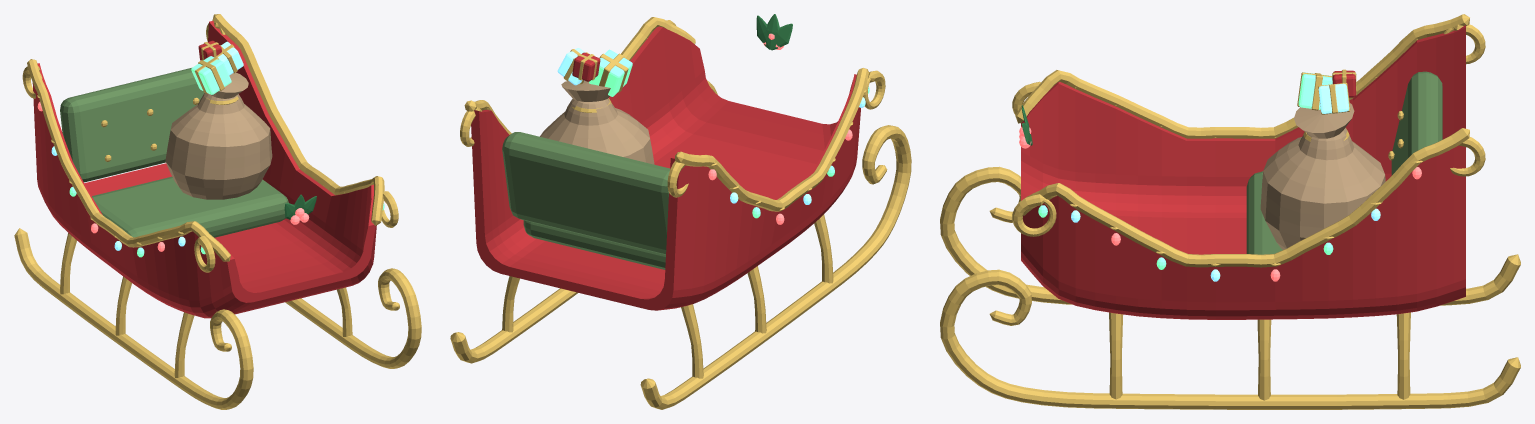
The model's file is Trineo.glb.
The picture shows the model from 3 angles, left to right: view 1: azimuth 30°, elevation 25°; view 2: azimuth 150°, elevation 25°; view 3: azimuth 270°, elevation 25°; orthographic projection. The views are drawn at different scales.
Visible parts, largest first — view 1: Trineo; view 2: Trineo; view 3: Trineo.
Boxes of the visible parts, <box> form: Trineo: <box>14,14,421,409</box>; Trineo: <box>450,14,911,409</box>; Trineo: <box>940,14,1520,409</box>.
Bounding box in the file's own units: 1.43 × 1.54 × 2.62.
